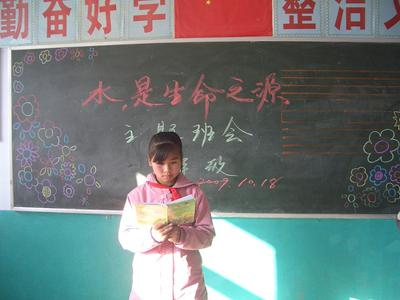person: (118, 131, 218, 300)
